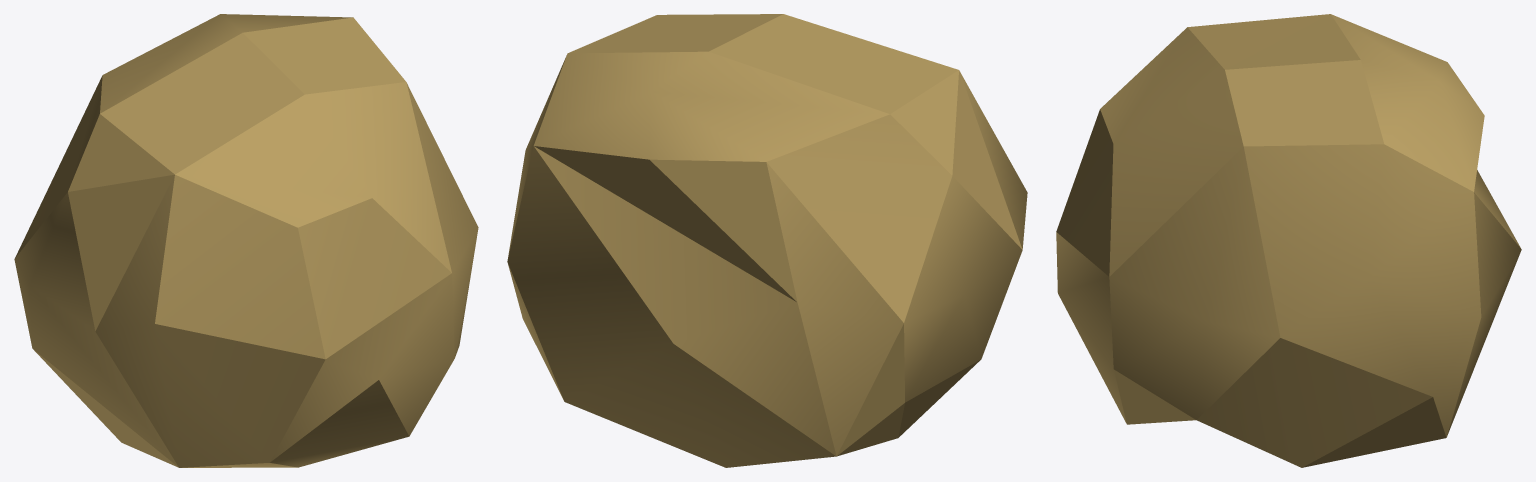
File: a_z3_rock_m.fbx
3 renders of one model, left to right at view 1: azimuth 30°, elevation 25°; view 2: azimuth 150°, elevation 25°; view 3: azimuth 270°, elevation 25°, orthographic. The views are drawn at different scales.
Visible parts, largest first — view 1: a_z3_rock_m; view 2: a_z3_rock_m; view 3: a_z3_rock_m.
Part boxes in pixels (x1,y1,x2,y2): a_z3_rock_m: (14,14,478,467); a_z3_rock_m: (507,14,1027,467); a_z3_rock_m: (1056,14,1521,467).
Bounding box in the file's own units: 203 × 177 × 199.
